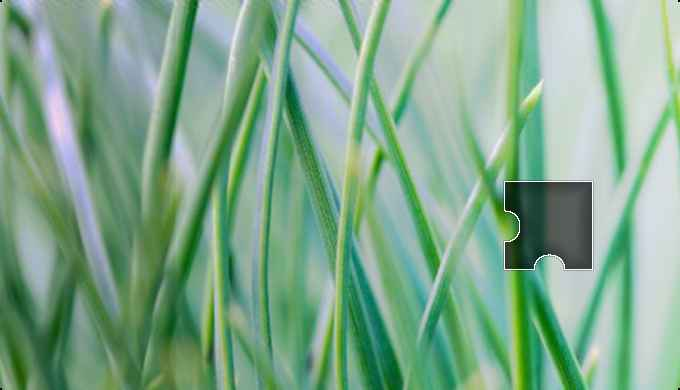gap: (506, 180, 592, 270)
